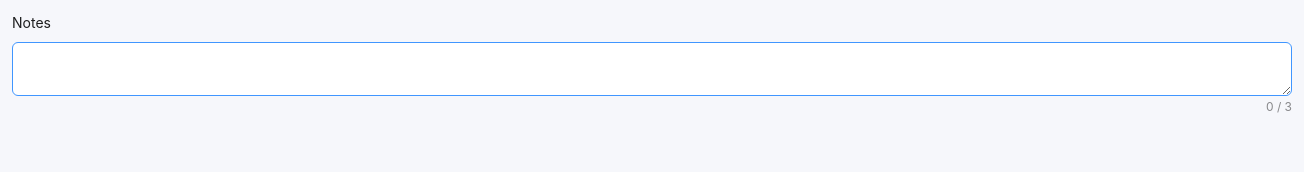
Test: form rendering › preserves IME composition and truncates text without splitting emoji
Later steps or results of the test are not shown.
Type "AB😀" into the text box labelled "Notes". click: (652, 69)
box: [12,42,1292,96]
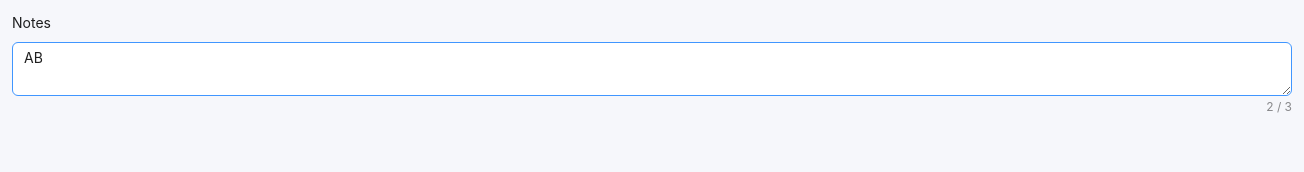
Now the text box labelled "Notes" holds "AB"
Replace the text in the text box labelled "Notes" with "中文输入". click: (652, 69)
box: [12,42,1292,96]
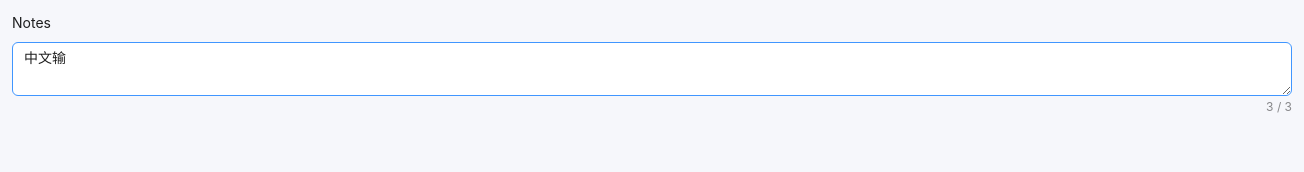
Now the text box labelled "Notes" holds "中文输", box [12,42,1292,96]
Now the text "3 / 3" is shown, box [1266,99,1292,114]
